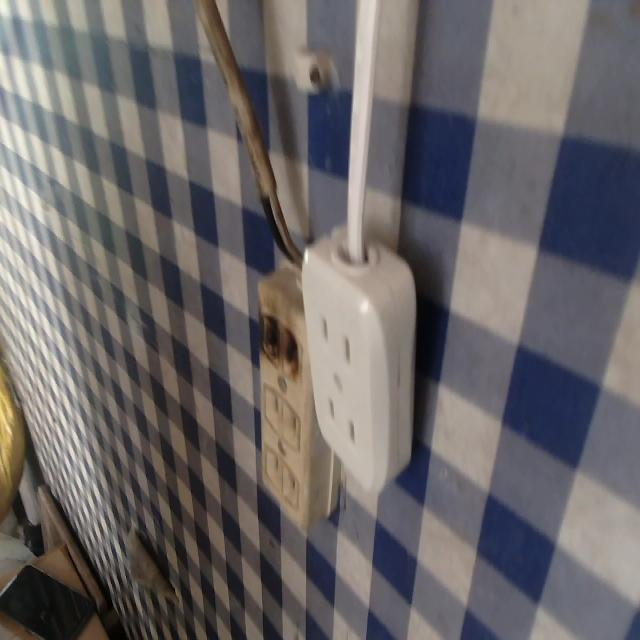-: (256, 312, 311, 381)
